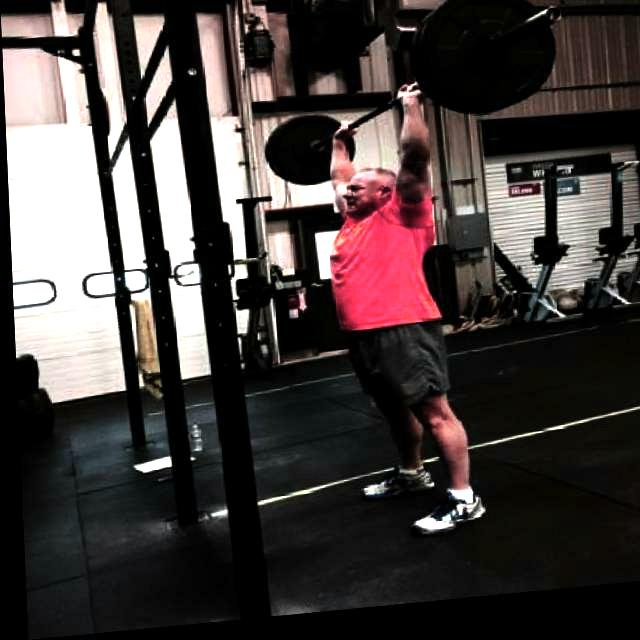barbell: (415, 1, 567, 128)
